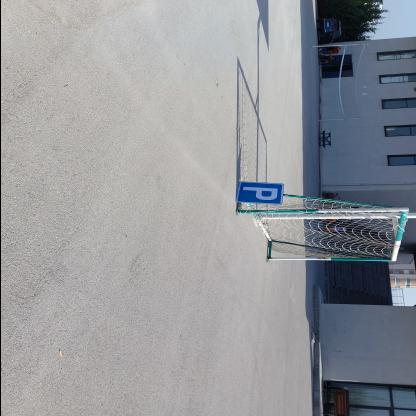Parking-Sign: (236, 183, 284, 206)
